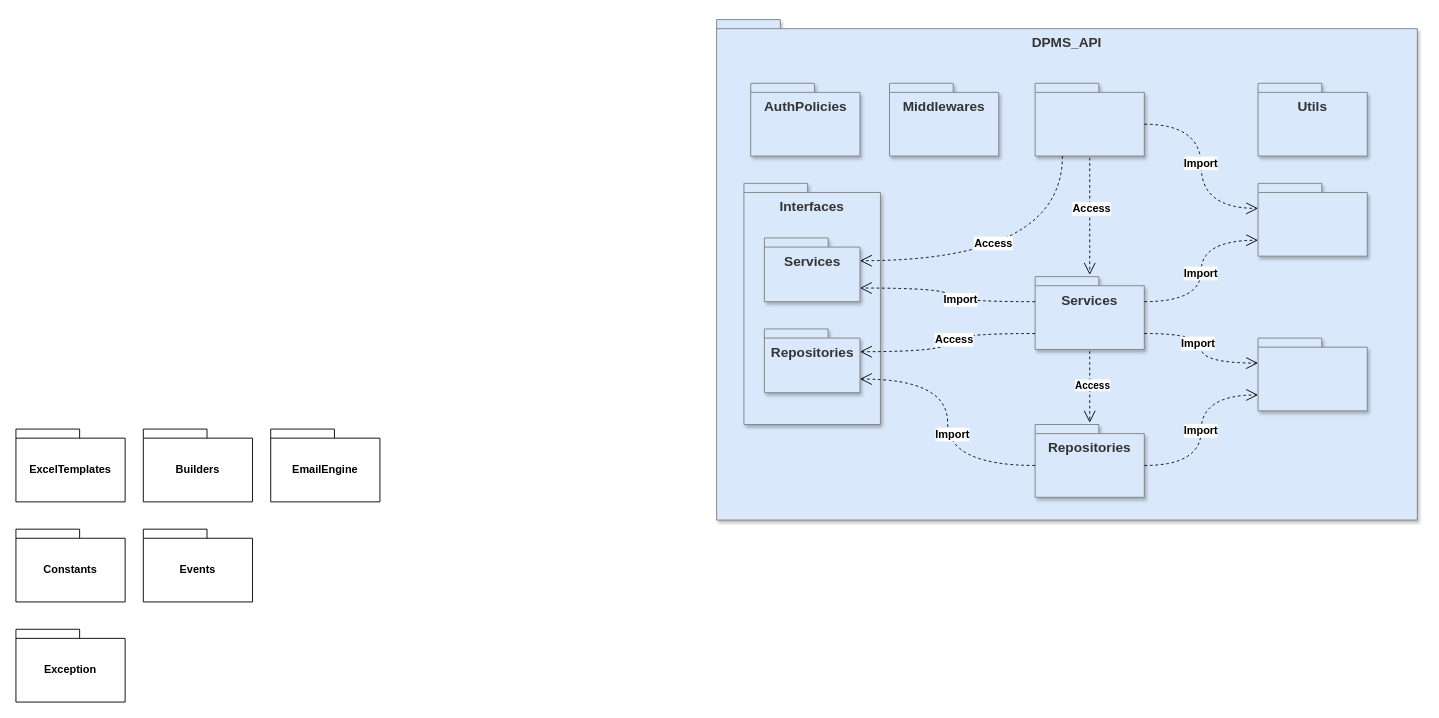
Image size: 1439x718. Some labels were removed from this diagram. Here are the shapes that lost their labels. From the top down, the centre of each, then its label:
At [1090,120]: "Controllers".
At [1313,221]: "ViewModels".
At [1313,375]: "Model".
